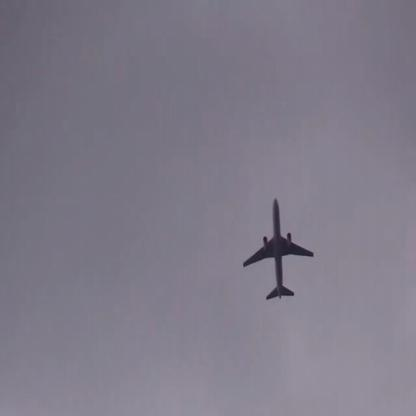CIV_Plane: (242, 198, 314, 298)
